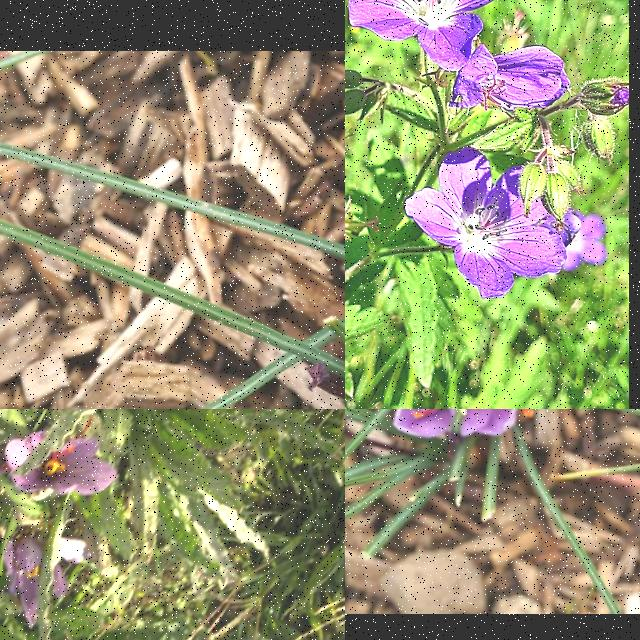flower: (0, 417, 116, 493), (3, 536, 83, 630), (393, 409, 535, 437)
